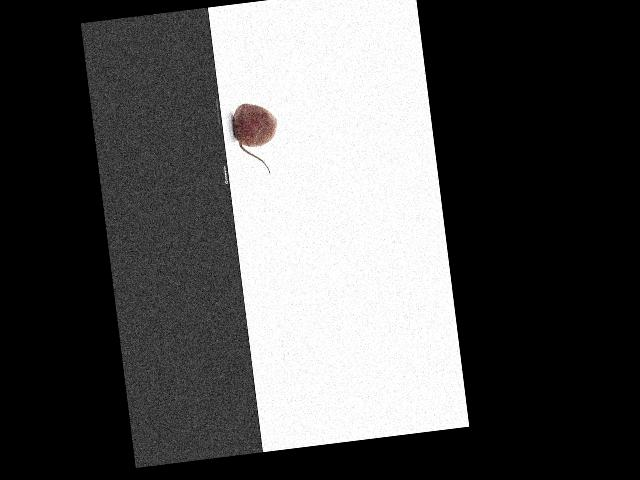beet: (230, 99, 282, 177)
